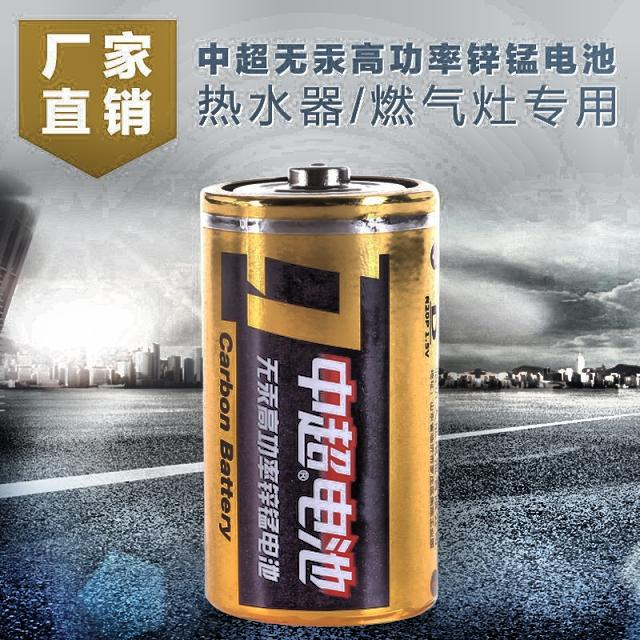Non-Valuable Waste - Batteries: (202, 166, 438, 624)
